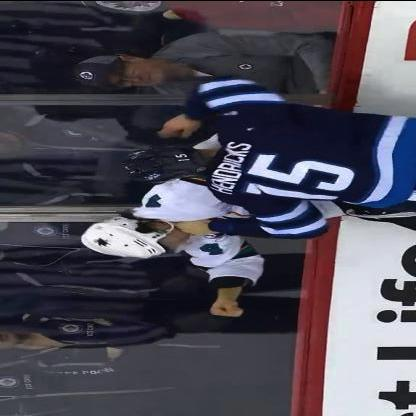voilence: (86, 76, 416, 302)
